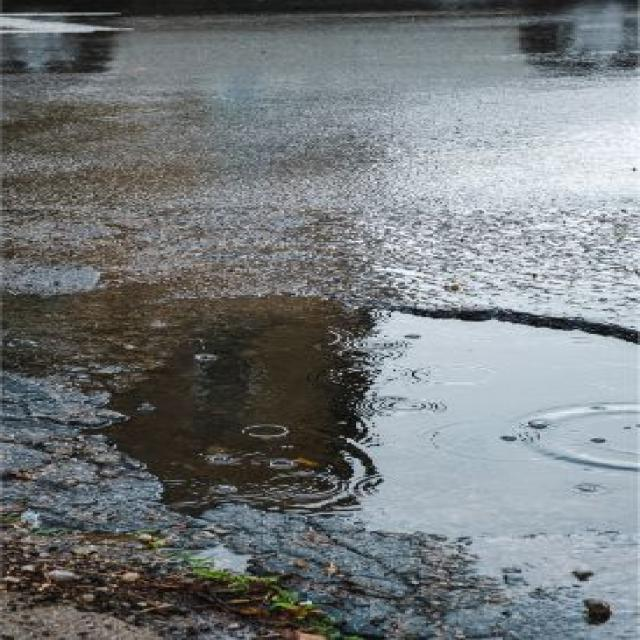Pothole: (54, 273, 640, 545)
